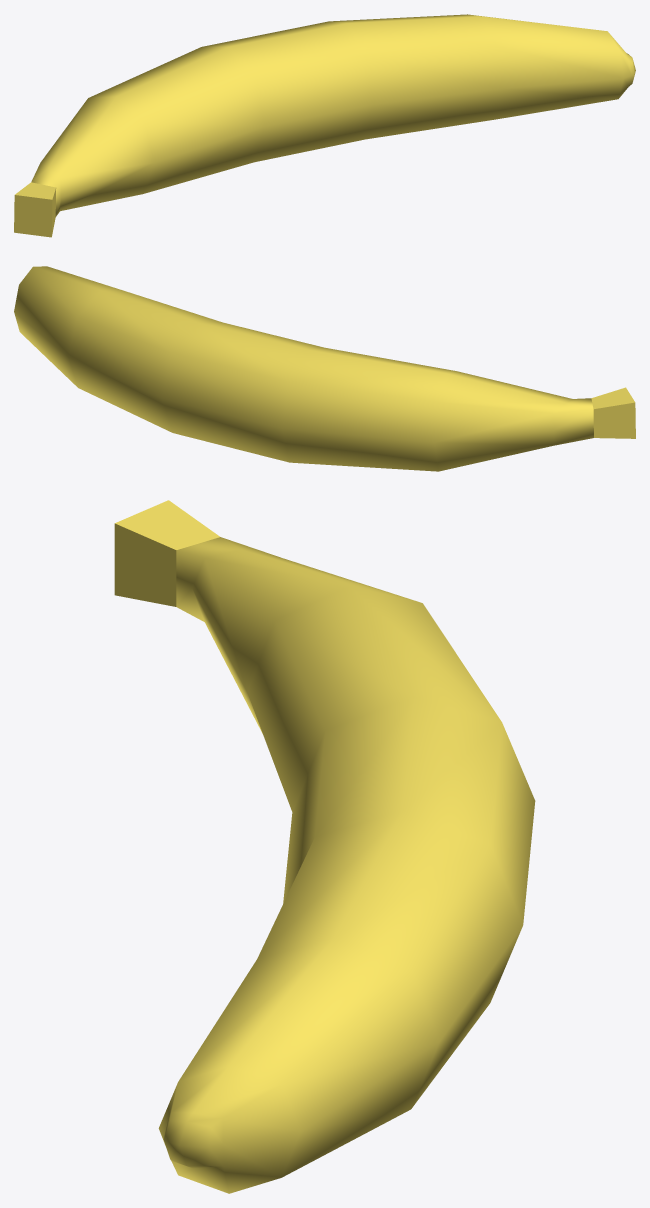
File: 09_fruit_banana_b.glb
3 views of the same model, one above another, from view 1: azimuth 30°, elevation 25°; view 2: azimuth 150°, elevation 25°; view 3: azimuth 270°, elevation 25° (orthographic). The views are drawn at different scales.
Visible parts, largest first — view 1: Fruit_Banana B; view 2: Fruit_Banana B; view 3: Fruit_Banana B.
Boxes of the visible parts, <box> form: Fruit_Banana B: <box>14,14,635,237</box>; Fruit_Banana B: <box>14,266,635,471</box>; Fruit_Banana B: <box>114,500,535,1193</box>.
Size of the model in its own units: 0.2564 by 0.0455 by 0.0772.
